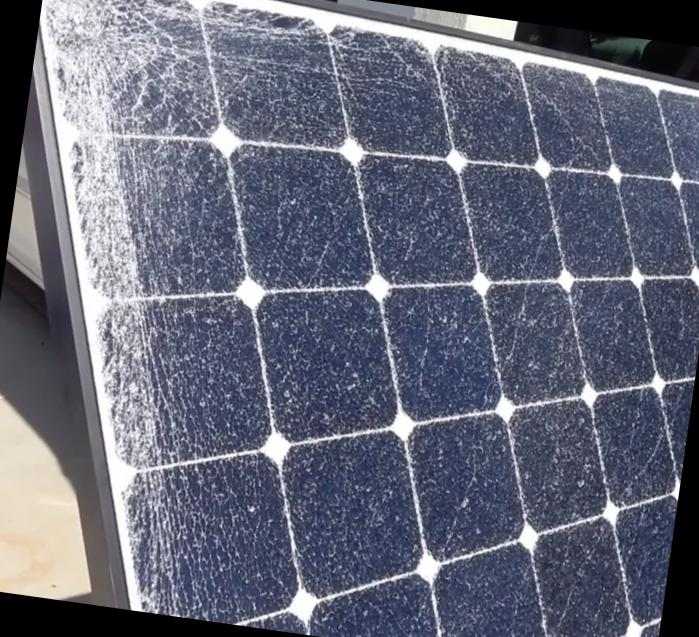Crack: (25, 0, 257, 158), (34, 139, 192, 306), (80, 453, 225, 612), (54, 298, 199, 456)
